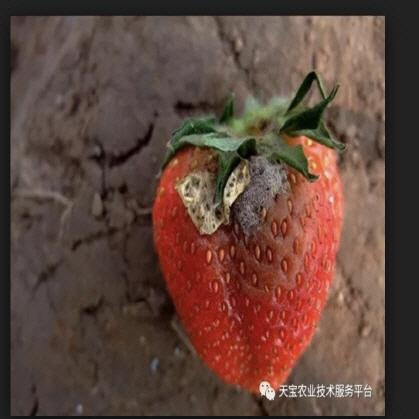Gray Mold: (169, 146, 326, 300)
